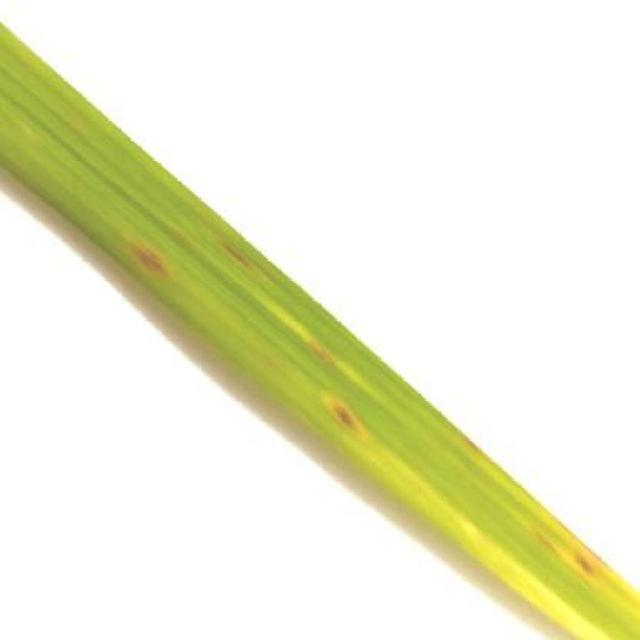Bacterial_Leaf_Blight: (122, 223, 182, 286), (216, 225, 278, 280), (325, 382, 380, 440)
